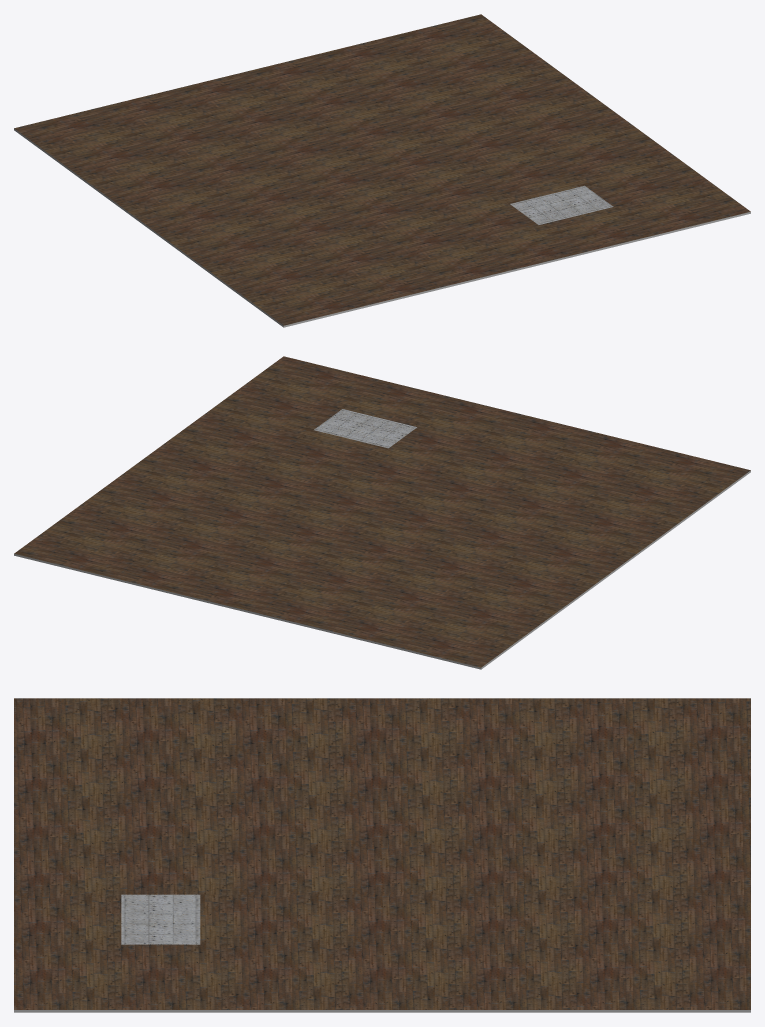
File: chao1andar.fbx
3 renders of one model, top to bottom at view 1: azimuth 30°, elevation 25°; view 2: azimuth 150°, elevation 25°; view 3: azimuth 270°, elevation 25°, orthographic. The views are drawn at different scales.
Visible parts, largest first — view 1: chao andar1; view 2: chao andar1; view 3: chao andar1.
Part boxes in pixels (x1,y1,x2,y2): chao andar1: (14, 14, 750, 327); chao andar1: (14, 356, 750, 669); chao andar1: (14, 698, 750, 1012).
Size of the model in its own units: 26.81 by 0.108 by 26.81.
4 materials, 2 textured.
